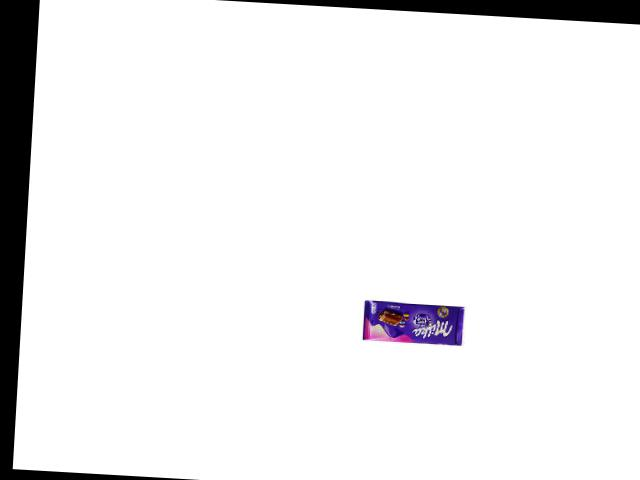chocolate: (362, 299, 464, 346)
